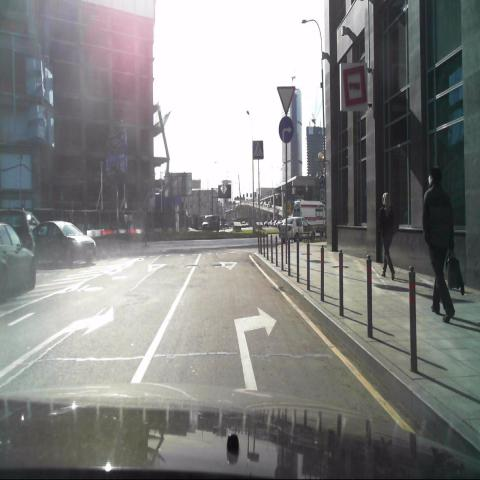4_1_2: (278, 115, 295, 144)
